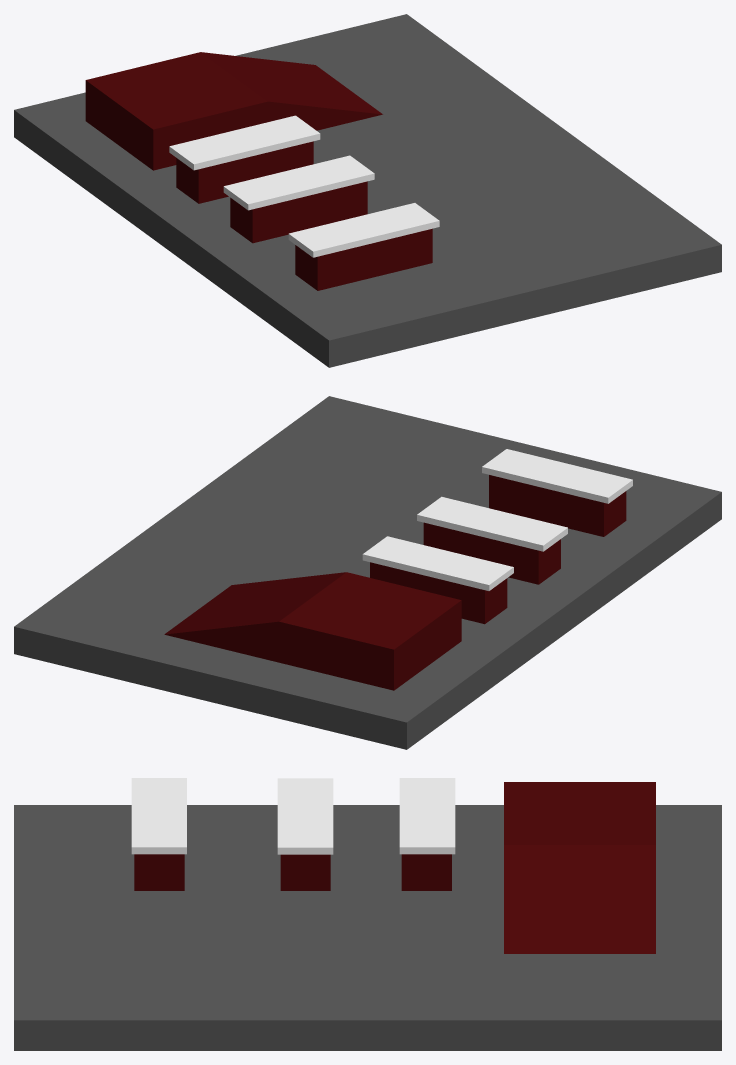
The model's file is Floor.glb.
The picture shows the model from 3 angles, top to bottom: view 1: azimuth 30°, elevation 25°; view 2: azimuth 150°, elevation 25°; view 3: azimuth 270°, elevation 25°; orthographic projection. The views are drawn at different scales.
Parts seen in each view (by area): view 1: Cube, Cube.001, Cube.002, Cube.005, Cube.004, Cube.007, Cube.006, Cube.008, Cube.003; view 2: Cube, Cube.001, Cube.002, Cube.005, Cube.008, Cube.006, Cube.007, Cube.004, Cube.003; view 3: Cube, Cube.002, Cube.001, Cube.007, Cube.008, Cube.006, Cube.003, Cube.005, Cube.004.
Part boxes in pixels (x1,y1,x2,y2): Cube: [14, 14, 721, 367]; Cube.001: [85, 52, 268, 170]; Cube.002: [201, 52, 382, 130]; Cube.005: [295, 228, 432, 290]; Cube.004: [230, 181, 367, 243]; Cube.007: [223, 155, 374, 210]; Cube.006: [288, 203, 439, 257]; Cube.008: [169, 115, 320, 170]; Cube.003: [176, 141, 313, 203]; Cube: [14, 396, 721, 749]; Cube.001: [279, 572, 461, 690]; Cube.002: [164, 572, 345, 662]; Cube.005: [489, 475, 626, 536]; Cube.008: [362, 536, 513, 590]; Cube.006: [482, 449, 632, 503]; Cube.007: [417, 496, 567, 551]; Cube.004: [423, 522, 560, 584]; Cube.003: [370, 562, 507, 624]; Cube: [14, 805, 721, 1050]; Cube.002: [504, 845, 655, 953]; Cube.001: [504, 782, 655, 844]; Cube.007: [277, 778, 333, 854]; Cube.008: [399, 778, 455, 854]; Cube.006: [131, 778, 186, 854]; Cube.003: [401, 854, 451, 890]; Cube.005: [134, 854, 184, 890]; Cube.004: [280, 854, 330, 890].
Size of the model in its own units: 30.06 by 5.05 by 41.76.
